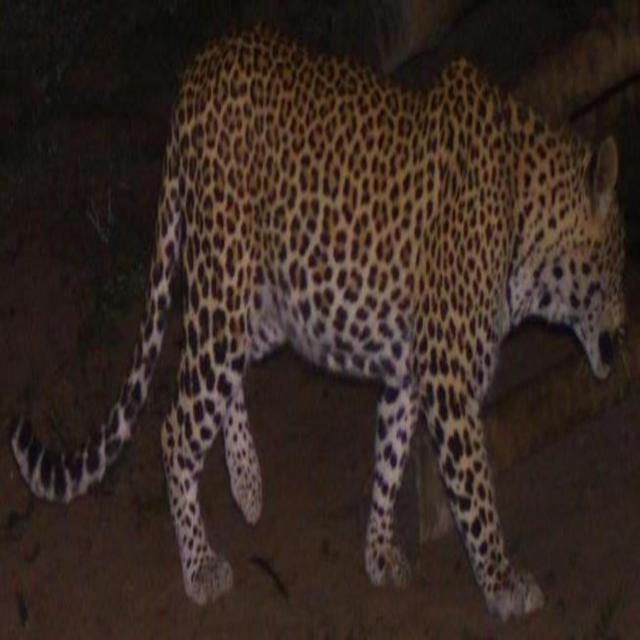Leopard: (34, 26, 626, 640)
